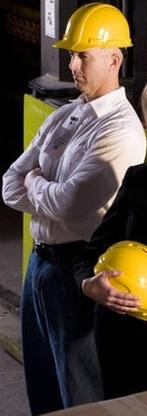hard-hat: (50, 1, 134, 50)
